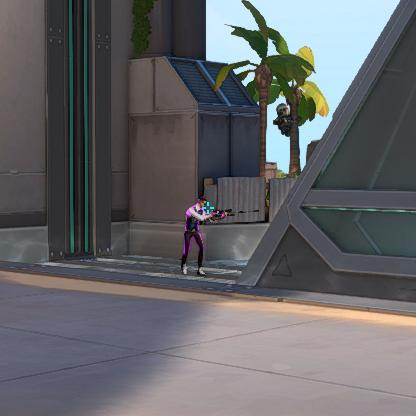enemyBody: (188, 209, 198, 230)
enemyHead: (198, 199, 205, 207)
